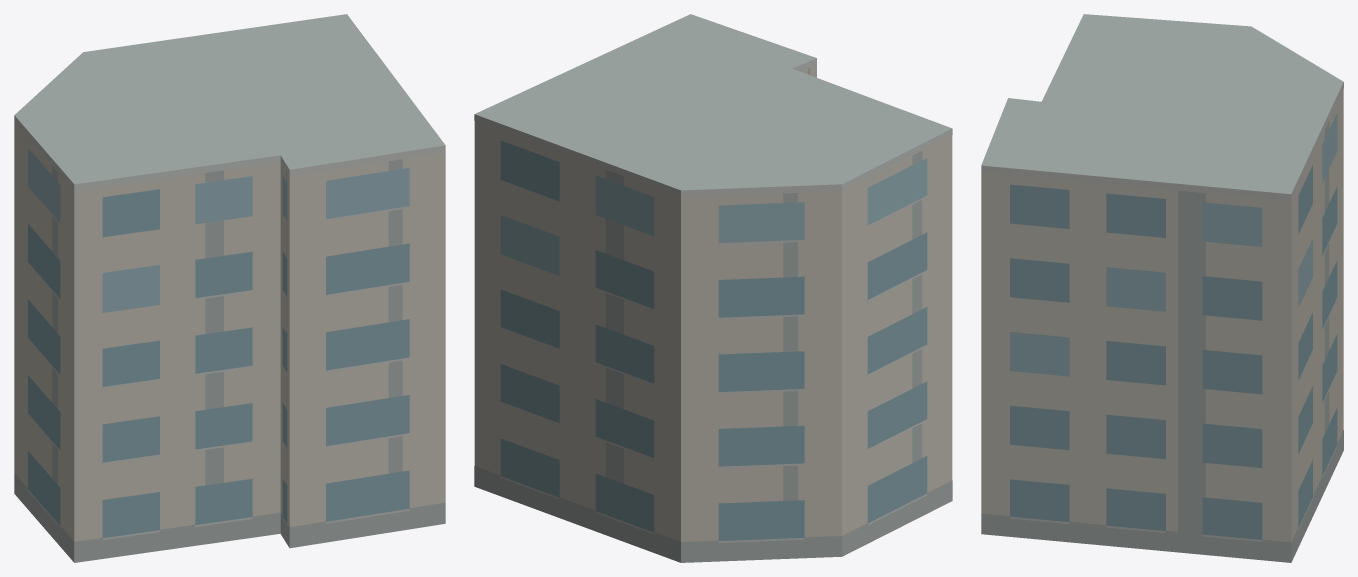
Rendered from survey-upis-32529284.glb.
The picture shows the model from 3 angles, left to right: view 1: azimuth 30°, elevation 25°; view 2: azimuth 150°, elevation 25°; view 3: azimuth 270°, elevation 25°; orthographic projection. The views are drawn at different scales.
Visible parts, largest first — view 1: survey-upis-32529284.tmp; view 2: survey-upis-32529284.tmp; view 3: survey-upis-32529284.tmp.
Boxes of the visible parts, x1,y1,x2,y2 form: survey-upis-32529284.tmp: (14, 14, 445, 562); survey-upis-32529284.tmp: (474, 14, 952, 562); survey-upis-32529284.tmp: (981, 14, 1343, 562).
Size of the model in its own units: 13.64 by 13 by 11.6.
